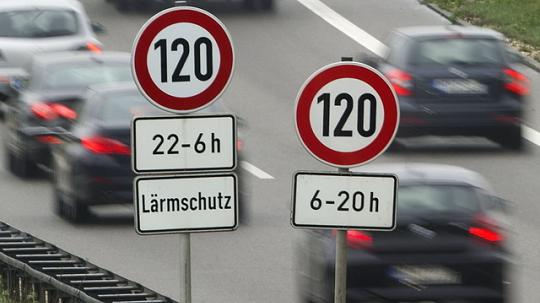Speed_limit_120km: (291, 60, 401, 168), (128, 5, 236, 114)
